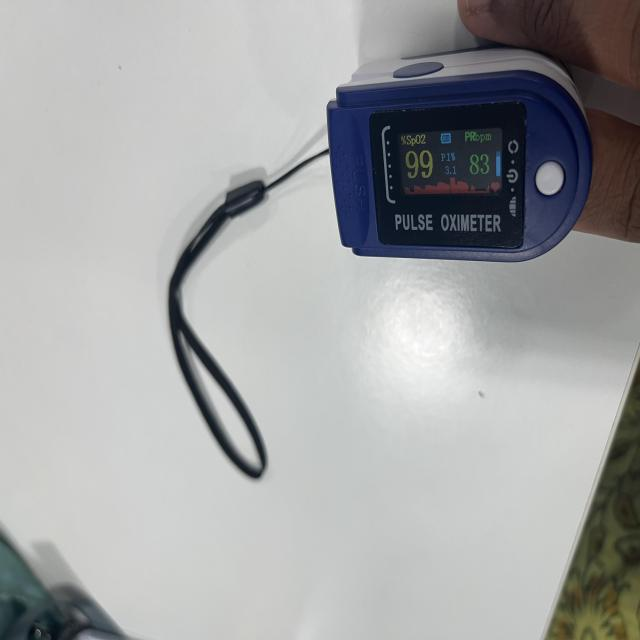spo2: (326, 50, 594, 265)
